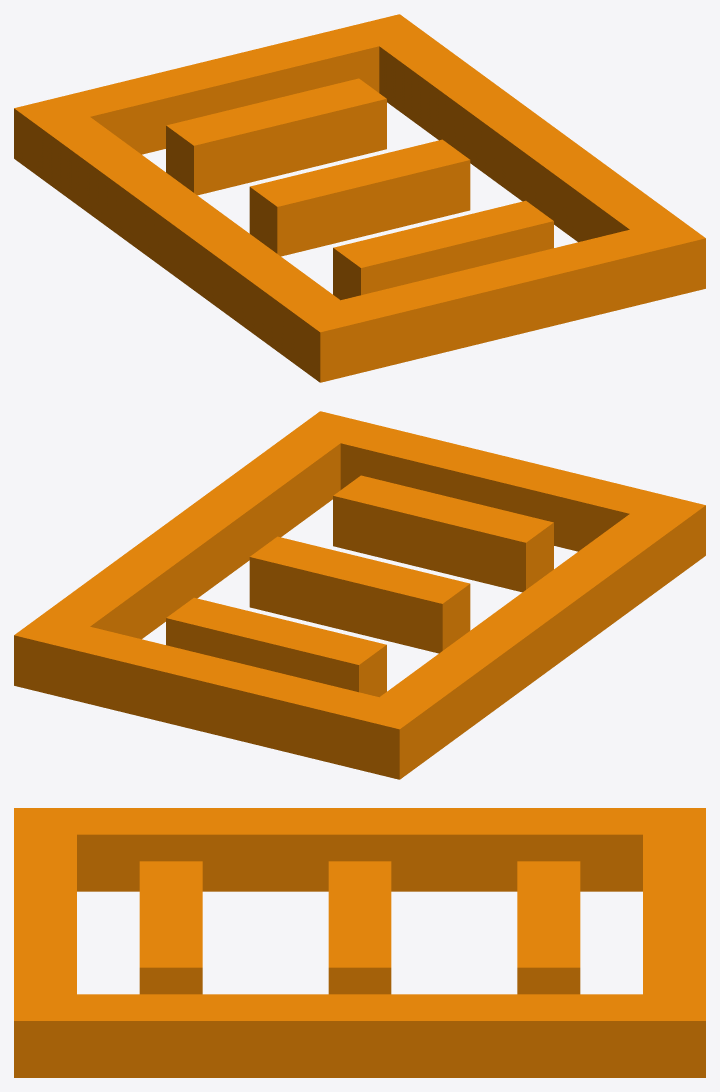
The model's file is ItemProtocol.gltf.
The picture shows the model from 3 angles, top to bottom: view 1: azimuth 30°, elevation 25°; view 2: azimuth 150°, elevation 25°; view 3: azimuth 270°, elevation 25°; orthographic projection. The views are drawn at different scales.
Visible parts, largest first — view 1: cube (×7); view 2: cube (×7); view 3: cube (×7).
Boxes of the visible parts, box(x1,y1,x2,y2) form: cube (×7): box(14, 14, 705, 382); cube (×7): box(14, 411, 705, 779); cube (×7): box(14, 808, 705, 1077).
Size of the model in its own units: 0.5 by 0.0625 by 0.6875.
Materials: 1 (1 with a texture image).
